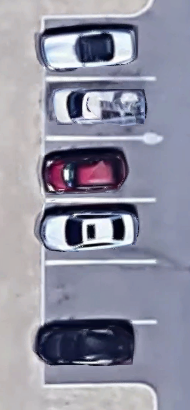Occupied: (42, 137, 155, 201), (43, 322, 156, 384), (43, 201, 156, 262), (43, 17, 155, 78), (43, 78, 155, 138)
Vacant: (43, 262, 156, 323)
